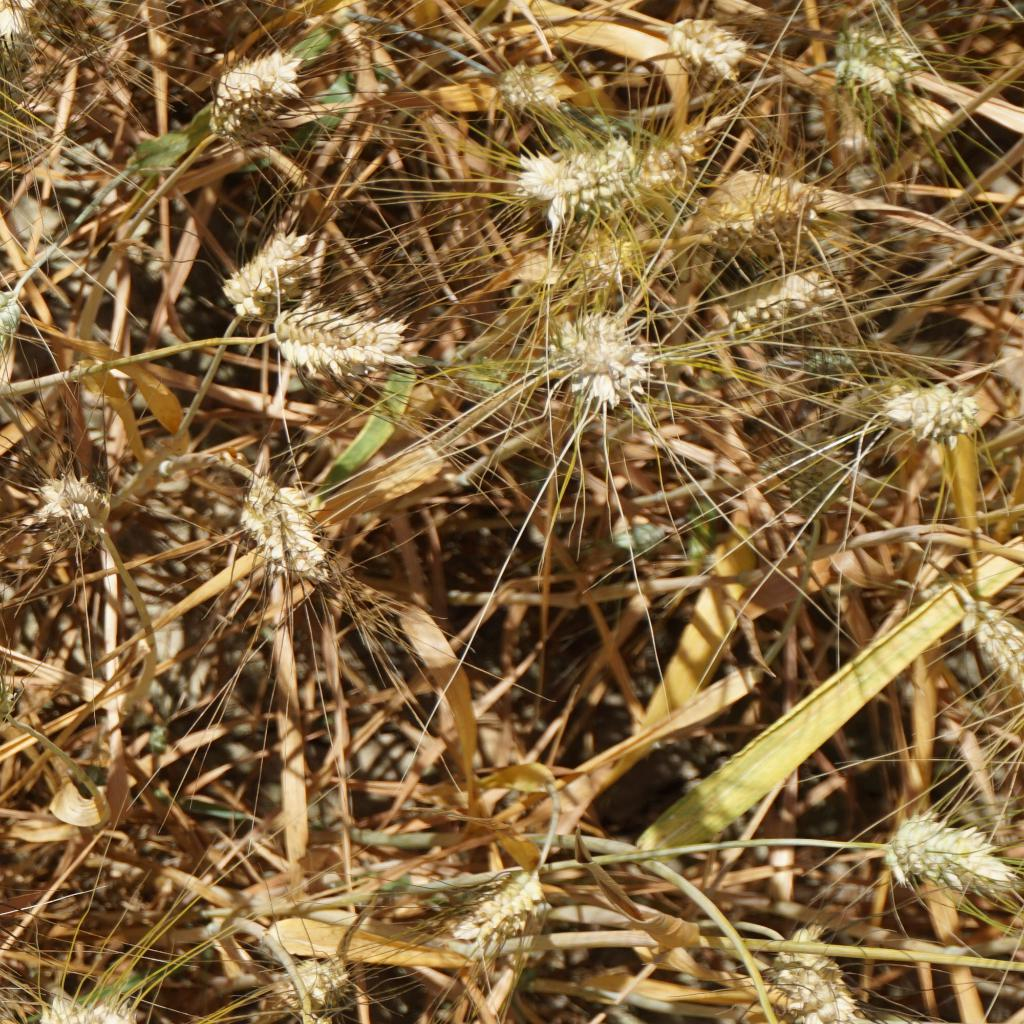0-0: (883, 813, 1022, 908), (492, 129, 644, 212), (235, 468, 335, 584), (192, 48, 310, 131), (868, 361, 982, 445), (820, 25, 934, 108), (217, 221, 316, 313), (545, 307, 638, 403), (275, 310, 397, 374), (722, 265, 834, 334), (444, 879, 543, 957), (780, 920, 849, 1024), (782, 432, 857, 526), (557, 219, 648, 295), (30, 462, 113, 540), (950, 588, 1024, 671), (657, 13, 751, 78), (704, 194, 804, 249), (630, 115, 700, 189), (33, 989, 169, 1024), (474, 58, 557, 115), (795, 334, 865, 398), (275, 951, 347, 1013), (0, 278, 31, 391), (0, 647, 24, 736), (0, 105, 16, 214)
